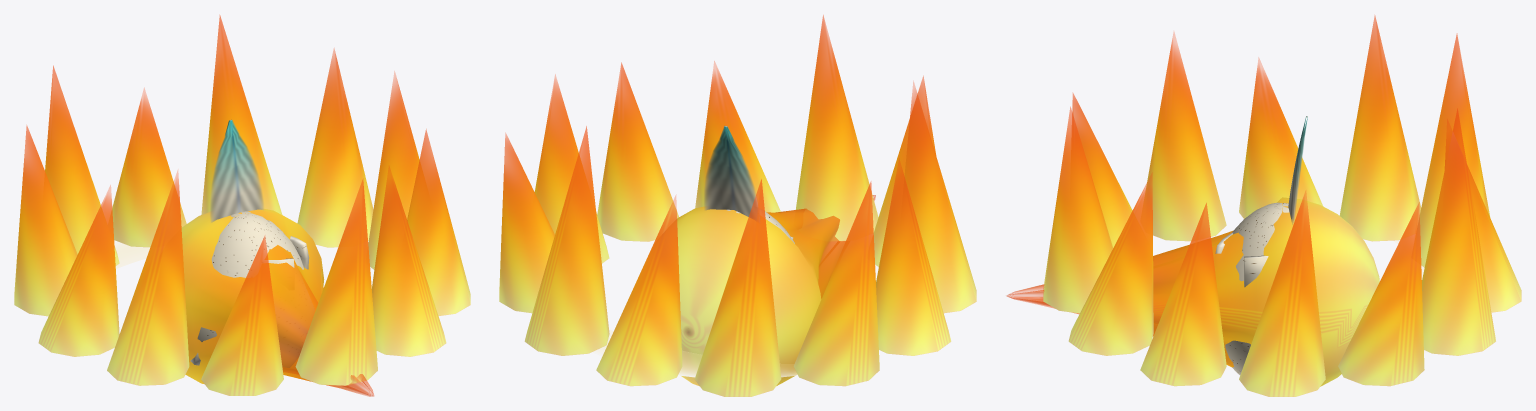
The model's file is parlworld_vfx.glb.
3 views of the same model, side by side, from view 1: azimuth 30°, elevation 25°; view 2: azimuth 150°, elevation 25°; view 3: azimuth 270°, elevation 25° (orthographic). The views are drawn at different scales.
Visible parts, largest first — view 1: vfx_flamering, vfx_fireball, vfx_egg, vfx_feather, vfx_slash; view 2: vfx_flamering, vfx_fireball, vfx_feather, vfx_slash; view 3: vfx_flamering, vfx_fireball, vfx_egg, vfx_feather, vfx_eggshell_1.
Part boxes in pixels (bbox=[...]): vfx_flamering: bbox=[14, 15, 470, 395]; vfx_fireball: bbox=[181, 208, 373, 396]; vfx_egg: bbox=[197, 211, 314, 367]; vfx_feather: bbox=[210, 119, 263, 222]; vfx_slash: bbox=[114, 223, 187, 268]; vfx_flamering: bbox=[499, 15, 976, 396]; vfx_fireball: bbox=[660, 195, 875, 386]; vfx_feather: bbox=[704, 125, 757, 219]; vfx_slash: bbox=[592, 330, 797, 377]; vfx_flamering: bbox=[1043, 15, 1521, 396]; vfx_fireball: bbox=[1006, 197, 1379, 386]; vfx_egg: bbox=[1225, 202, 1289, 374]; vfx_feather: bbox=[1288, 116, 1307, 224]; vfx_eggshell_1: bbox=[1244, 255, 1268, 287].
Size of the model in its own units: 2.42 by 1.73 by 2.61.
Materials: 5 (5 with a texture image).
